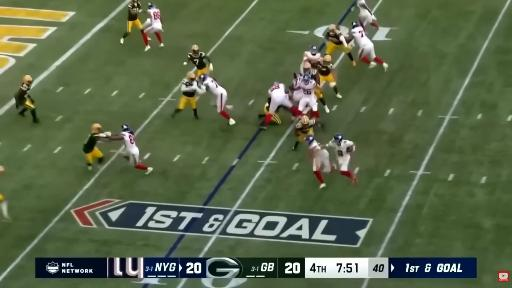Helmet: (320, 54, 332, 66), (89, 122, 102, 133), (300, 63, 311, 73), (333, 134, 345, 143), (192, 45, 201, 56), (185, 71, 194, 82), (299, 117, 310, 126), (300, 76, 311, 85), (308, 47, 319, 56), (119, 125, 131, 133), (304, 135, 313, 145), (328, 26, 337, 35), (23, 76, 32, 84), (350, 23, 359, 29), (147, 3, 154, 10)
Jersey: (328, 140, 354, 156), (351, 27, 371, 47), (203, 78, 226, 95), (15, 83, 31, 104), (182, 79, 200, 97), (83, 133, 99, 153), (188, 52, 206, 69), (120, 132, 136, 151), (296, 119, 315, 134), (128, 1, 141, 21), (300, 79, 316, 95), (269, 83, 286, 98), (326, 31, 342, 45), (148, 8, 161, 25), (303, 51, 321, 63), (308, 140, 323, 153), (318, 63, 332, 76), (292, 74, 303, 90), (356, 0, 366, 9)
Player: (108, 125, 153, 174), (260, 83, 301, 129), (200, 74, 235, 125), (351, 23, 388, 71), (171, 72, 205, 119), (306, 135, 334, 188), (328, 134, 357, 183), (325, 25, 356, 66), (304, 63, 329, 113), (83, 124, 110, 170), (15, 75, 38, 123), (318, 55, 342, 98), (120, 0, 143, 43), (143, 3, 163, 51), (184, 45, 213, 77), (299, 75, 319, 118), (293, 115, 316, 149), (356, 0, 378, 28), (301, 46, 321, 72), (290, 73, 303, 104), (259, 102, 269, 118)
